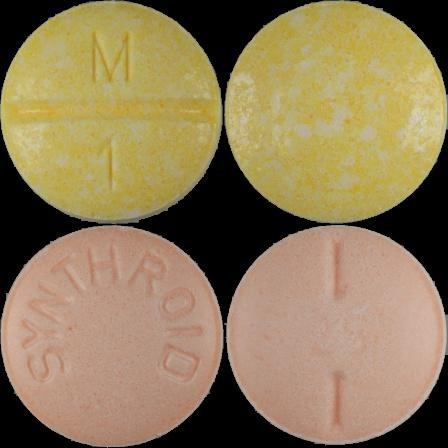66336-338: (0, 0, 224, 224)
